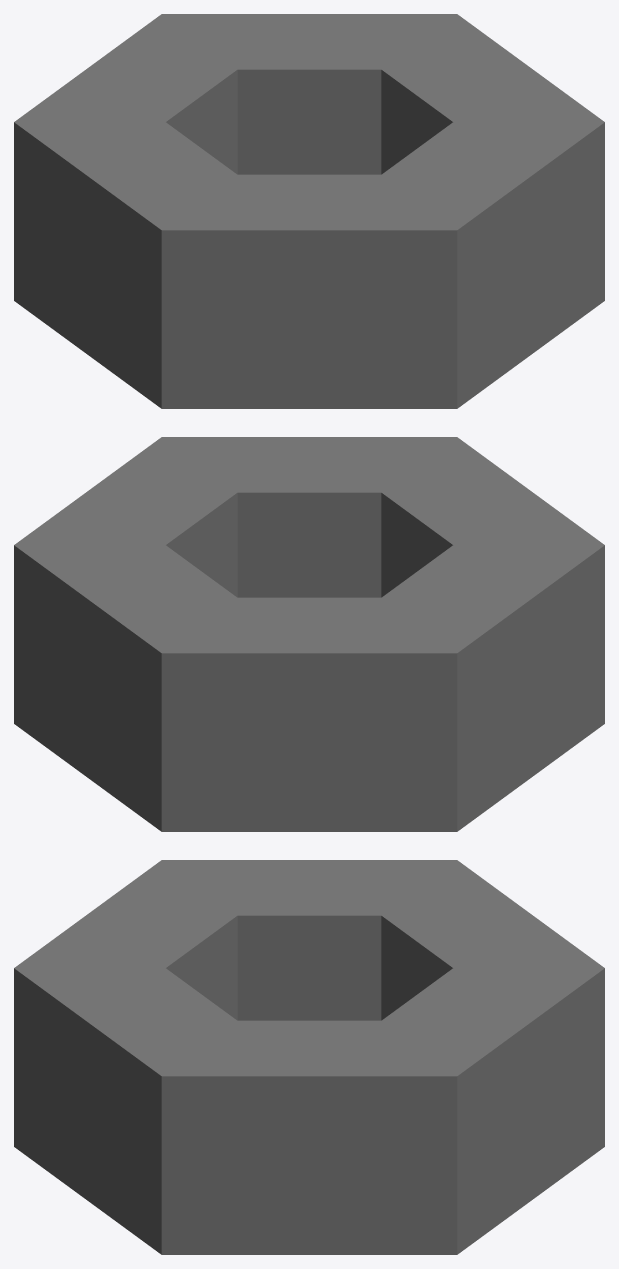
File: nut.glb
3 views of the same model, one above another, from view 1: azimuth 30°, elevation 25°; view 2: azimuth 150°, elevation 25°; view 3: azimuth 270°, elevation 25° (orthographic).
Visible parts, largest first — view 1: Cylinder.003; view 2: Cylinder.003; view 3: Cylinder.003.
Boxes of the visible parts, x1=… form: Cylinder.003: x1=14, y1=14, x2=604, y2=408; Cylinder.003: x1=14, y1=437, x2=604, y2=831; Cylinder.003: x1=14, y1=860, x2=604, y2=1254.
Size of the model in its own units: 0.7233 by 0.2785 by 0.8352.
1 material, 1 textured.
